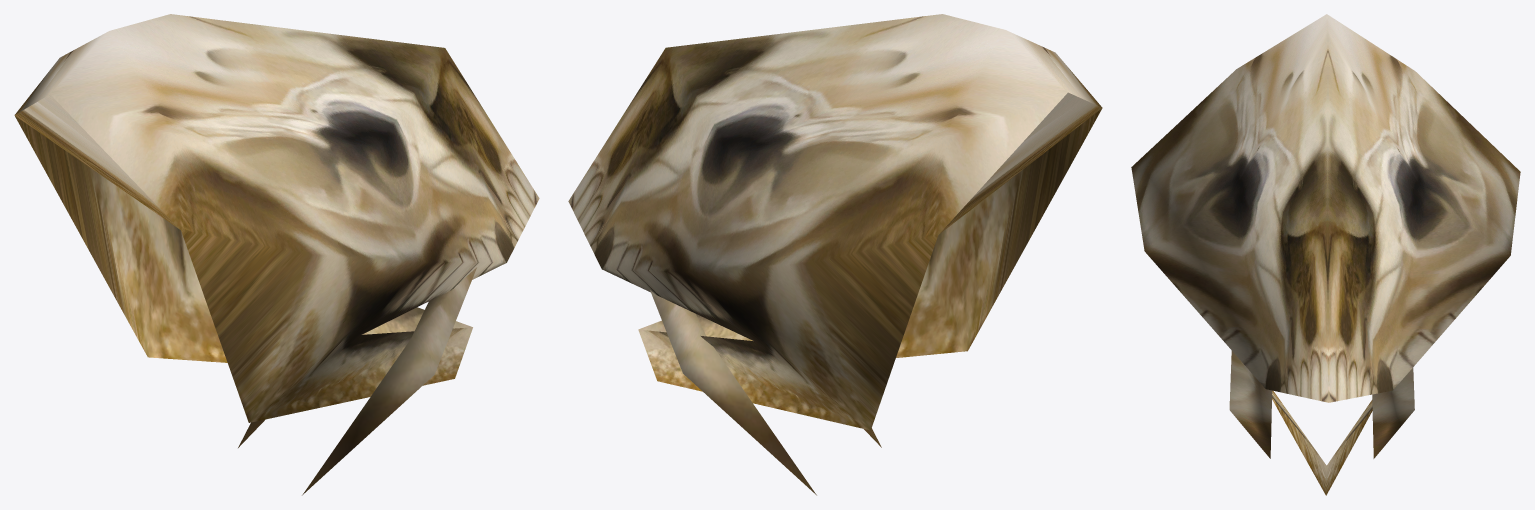
Rendered from tigerskull.obj.
3 views of the same model, side by side, from view 1: azimuth 30°, elevation 25°; view 2: azimuth 150°, elevation 25°; view 3: azimuth 270°, elevation 25° (orthographic). The views are drawn at different scales.
Parts seen in each view (by area): view 1: tigerskull; view 2: tigerskull; view 3: tigerskull.
Boxes of the visible parts, x1,y1,x2,y2 form: tigerskull: (14,14,539,495); tigerskull: (568,14,1102,495); tigerskull: (1131,14,1520,495).
Bounding box in the file's own units: 0.6416 × 0.5972 × 0.5477.
1 material, 1 textured.
